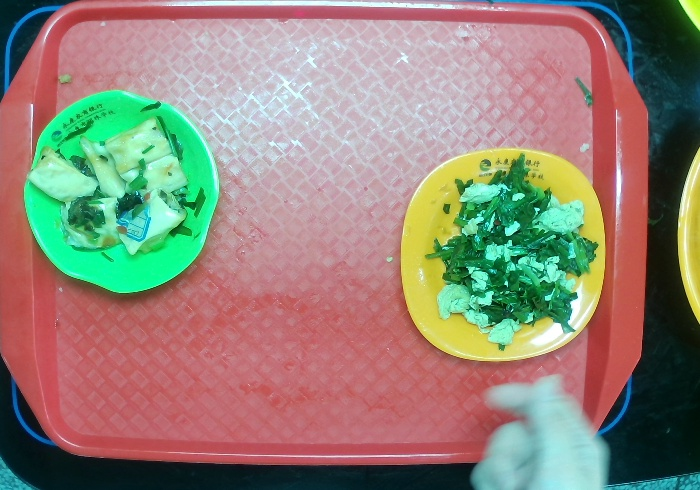YKMZ-Ju_Se_Fang_Die: (387, 141, 610, 381)
YKMZ-Lv_Se_Ao_Bian_Wan: (13, 80, 240, 303)
